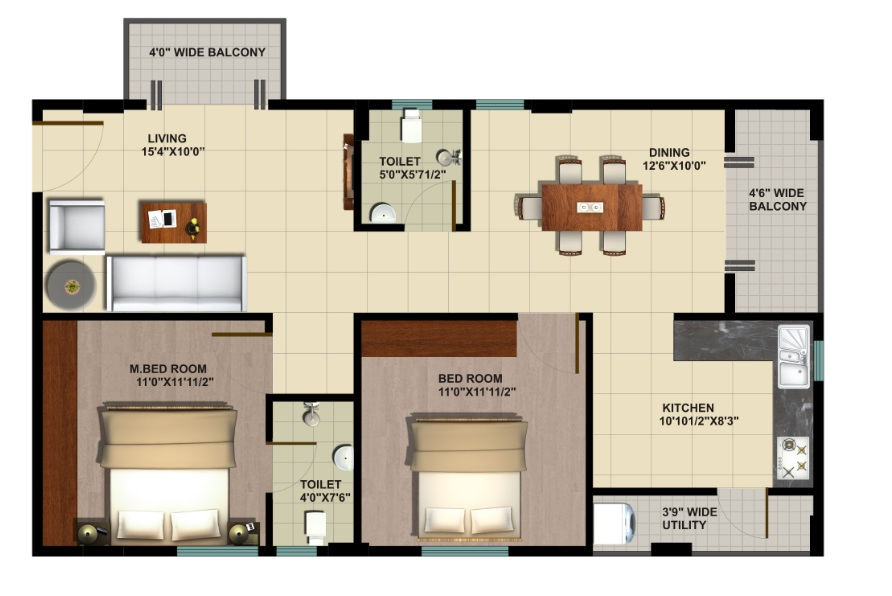room: (31, 313, 361, 556), (33, 99, 363, 320), (356, 313, 589, 556), (587, 311, 823, 493), (725, 98, 824, 322), (354, 100, 470, 230)
